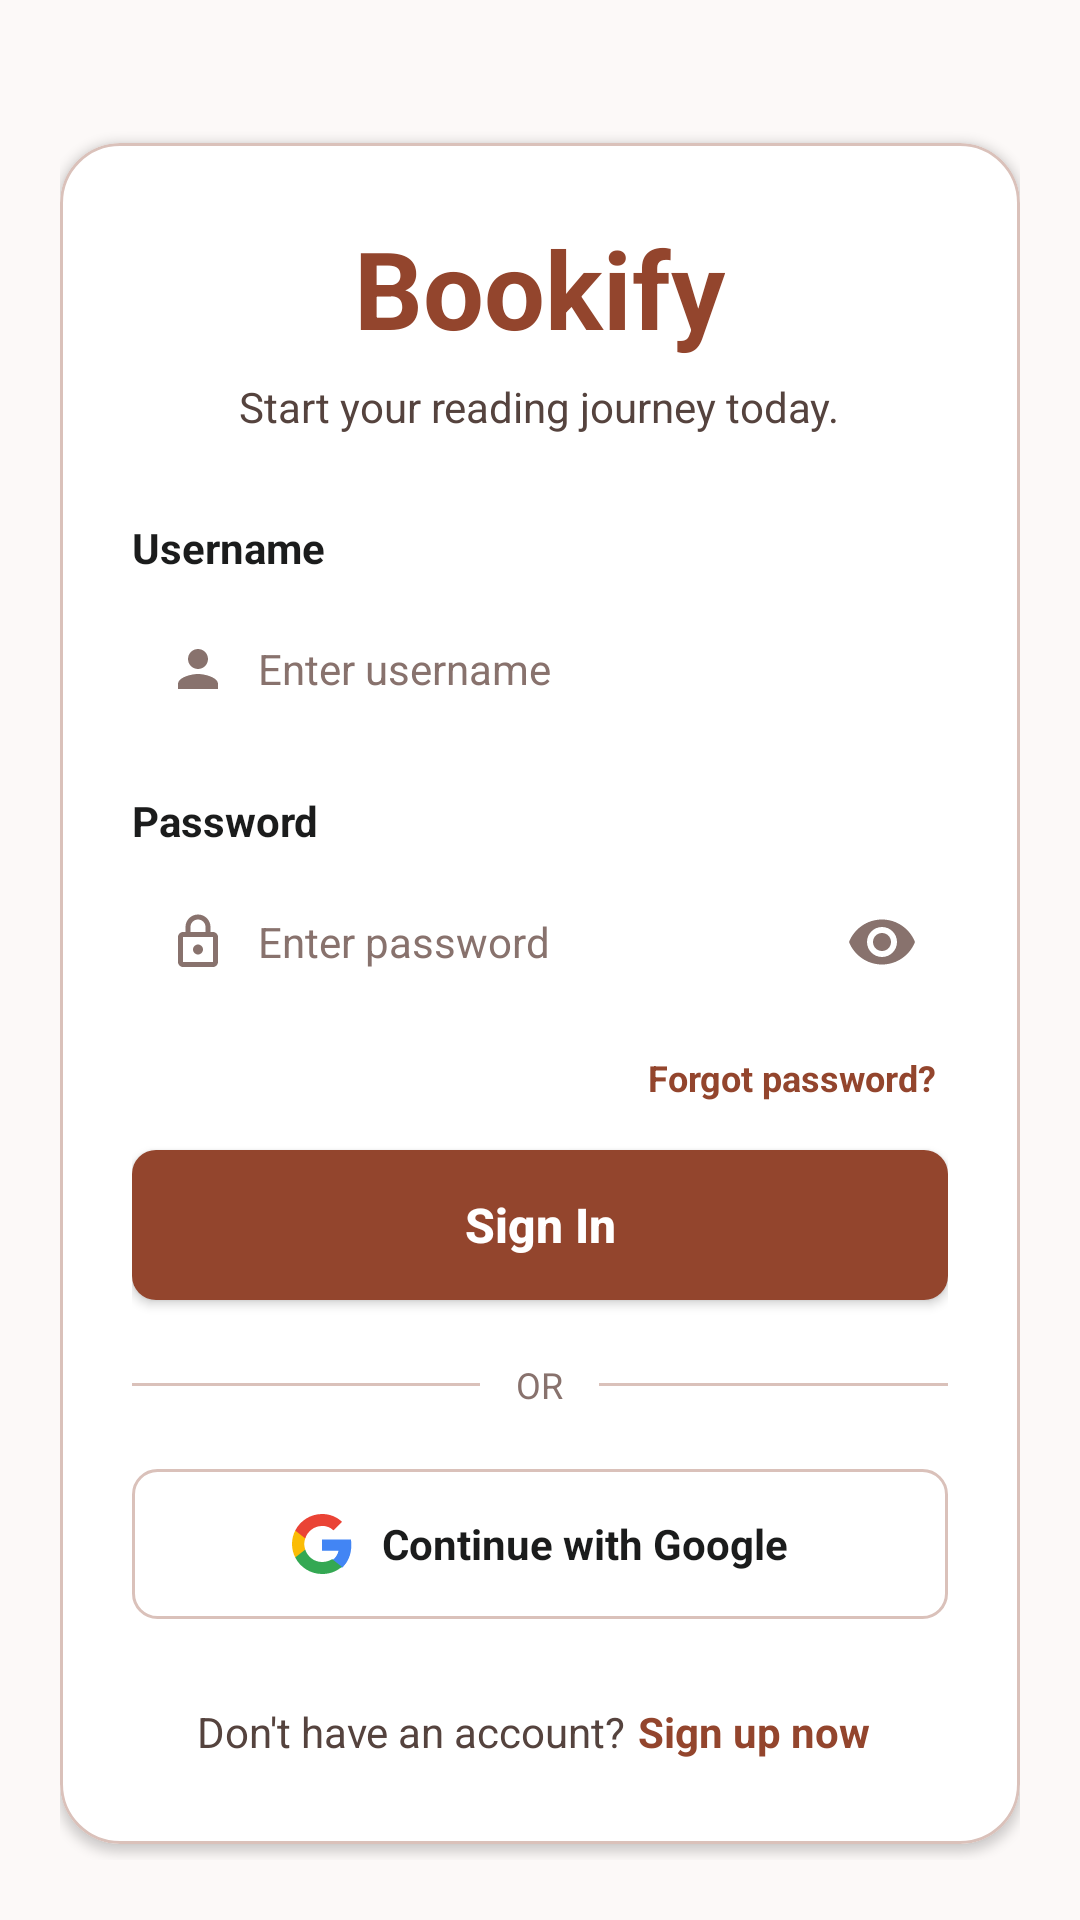

Named icons in this screenshot (1080w x 1920h) and their centers, (x,y):
lock: (198,940)
person: (198,669)
Toggle password visibility: (882,942)
